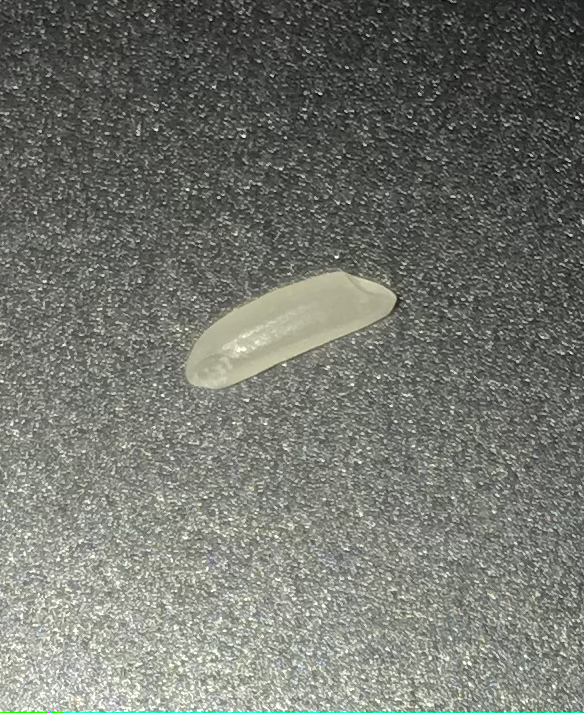Gao Long Lai: (175, 258, 400, 428)
